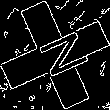N_SW: (23, 26, 87, 84)
